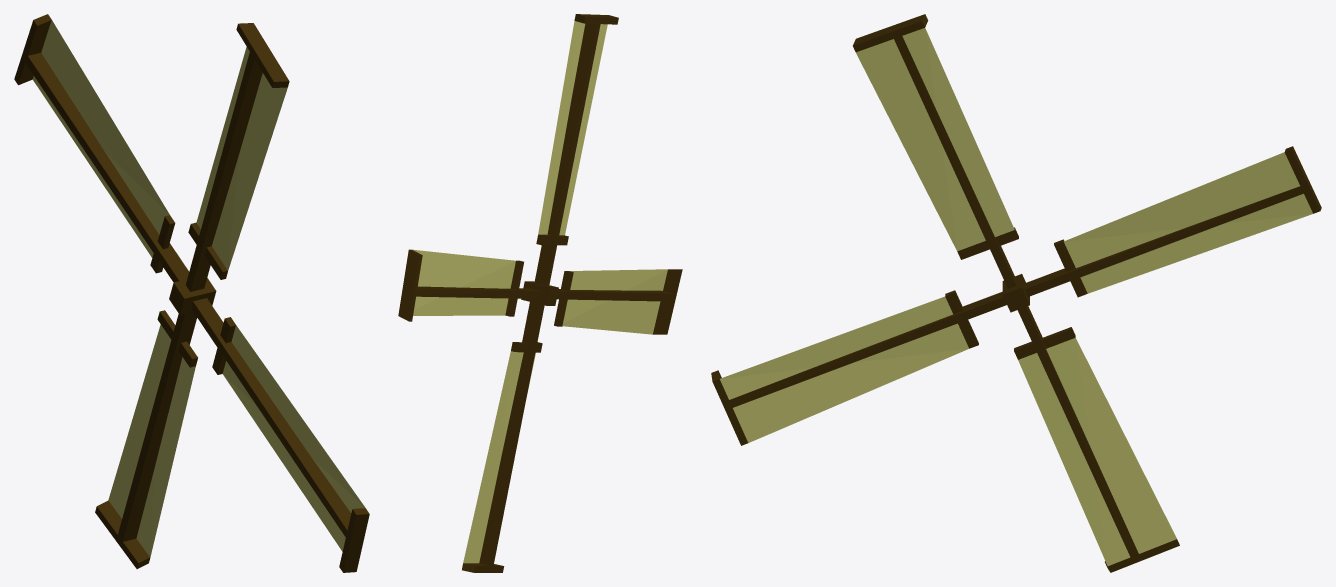
The model's file is sails0005.obj.
The picture shows the model from 3 angles, left to right: view 1: azimuth 30°, elevation 25°; view 2: azimuth 150°, elevation 25°; view 3: azimuth 270°, elevation 25°; orthographic projection. The views are drawn at different scales.
Parts seen in each view (by area): view 1: Sails_Mesh; view 2: Sails_Mesh; view 3: Sails_Mesh.
Part boxes in pixels (x1=…): Sails_Mesh: x1=14, y1=14, x2=369, y2=572; Sails_Mesh: x1=398, y1=14, x2=682, y2=572; Sails_Mesh: x1=711, y1=14, x2=1321, y2=572.
Bounding box in the file's own units: 0.5135 × 9.53 × 9.52.
